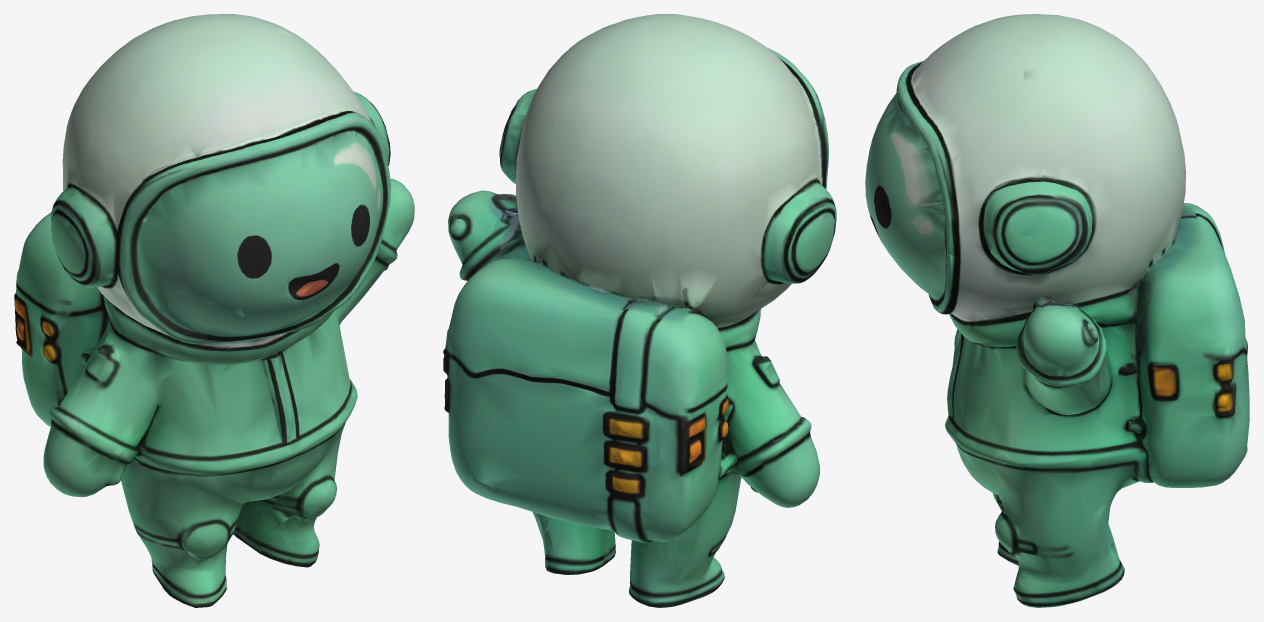
The model's file is hero3d-astro.glb.
3 renders of one model, left to right at view 1: azimuth 30°, elevation 25°; view 2: azimuth 150°, elevation 25°; view 3: azimuth 270°, elevation 25°, orthographic. The views are drawn at different scales.
Bounding box in the file's own units: 1.37 × 2 × 1.3.
Materials: 1 (1 with a texture image).
